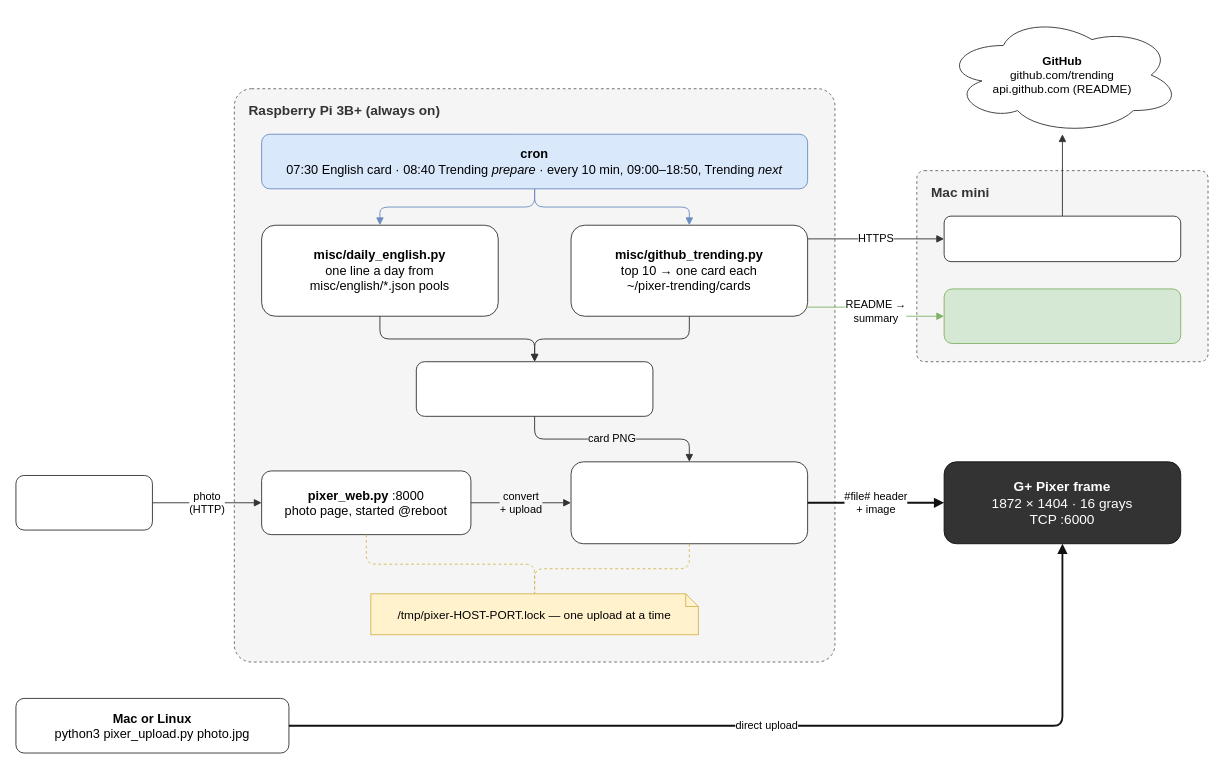
This 1224x769 diagram has some shape labels left out. Each missing label, with the centre of its shape:
"headless Chromium HTML → 1872 × 1404 PNG" goes at [534,388].
"HTTPS proxy :1082" goes at [1062,238].
"Ollama :11434 gemma4:e4b" goes at [1062,316].
"Phone browser same Wi-Fi" goes at [83,502].
"pixer_upload.py battery check · ffmpeg · 16-gray dither · imagebin" goes at [689,502].
